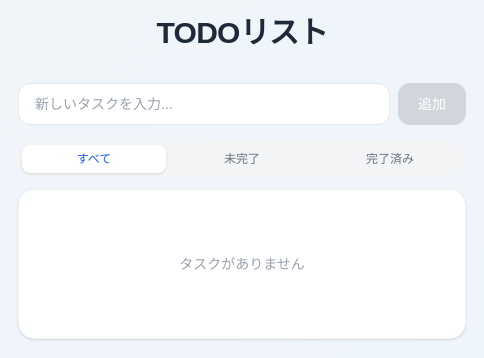
Test case: TodoApp › TODO追加 › 追加ボタンをクリックするとTODOが追加される
Check: the heading "TODOリスト" is shown, box [157, 16, 328, 49]
Type "買い物に行く" into the field with placeholder "新しいタスクを入力..." at [204, 104], box [18, 83, 390, 125]
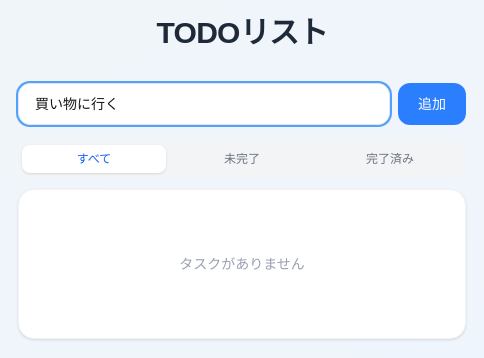
Click the button "追加" at [432, 104], box [398, 83, 466, 125]
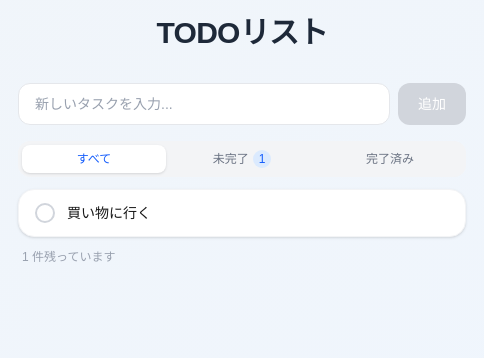
Check: the text "買い物に行く" is shown, box [67, 205, 151, 221]
